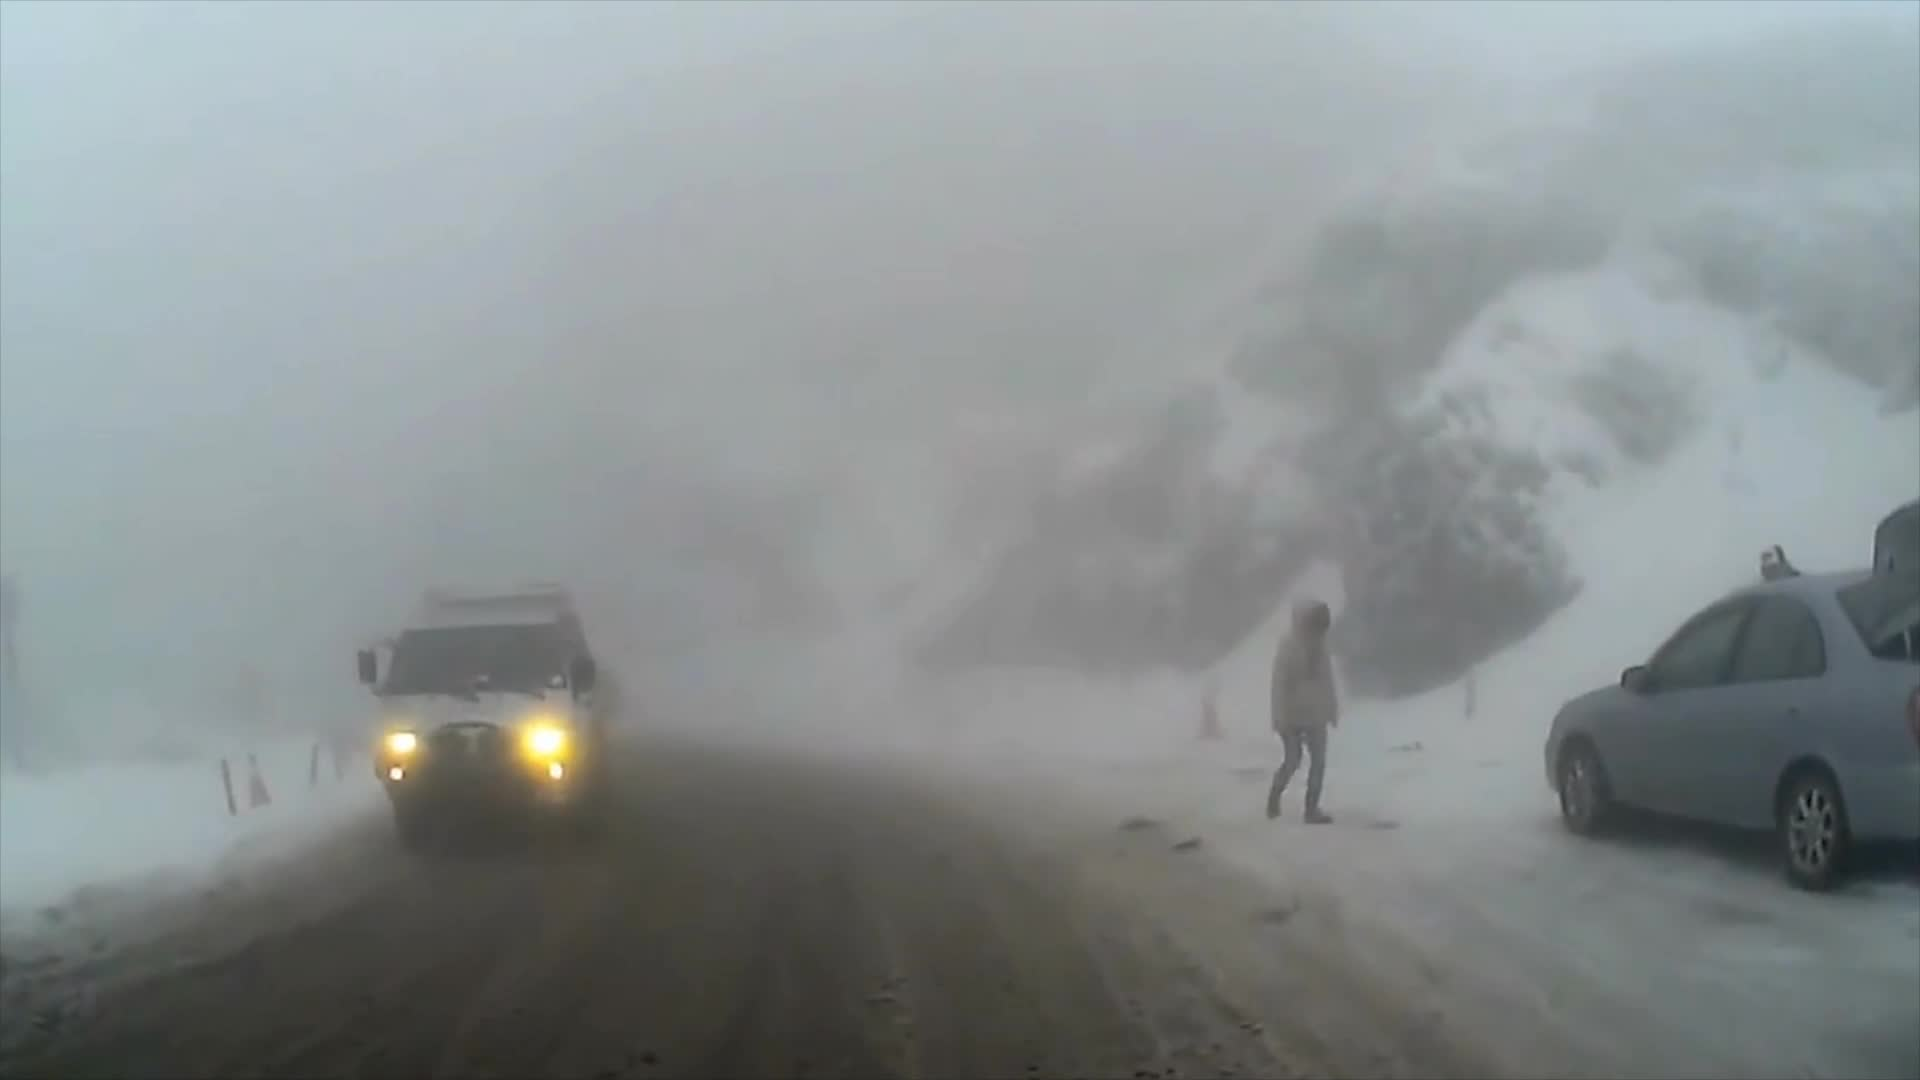pedestrian: (1264, 589, 1344, 819)
vehicle: (1542, 502, 1920, 892), (352, 578, 608, 850)
